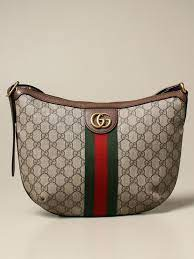Gucci: (7, 77, 189, 218), (78, 96, 130, 220), (28, 109, 78, 204), (87, 109, 119, 130)
